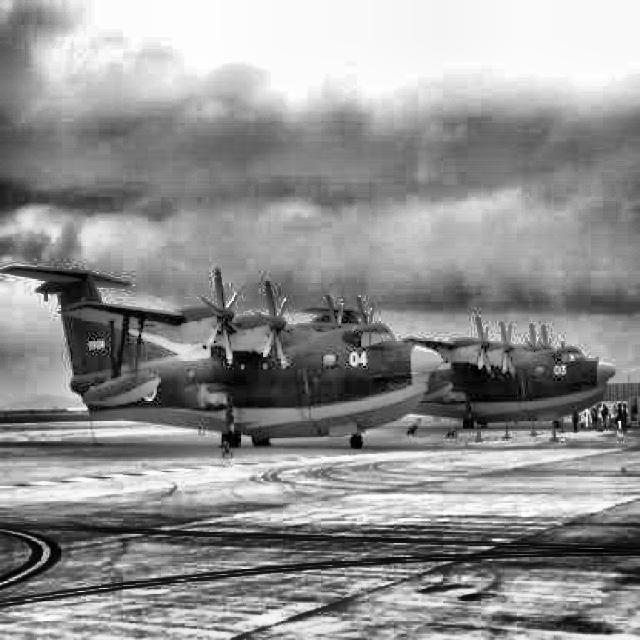US2: (1, 266, 441, 448), (300, 305, 617, 430)
